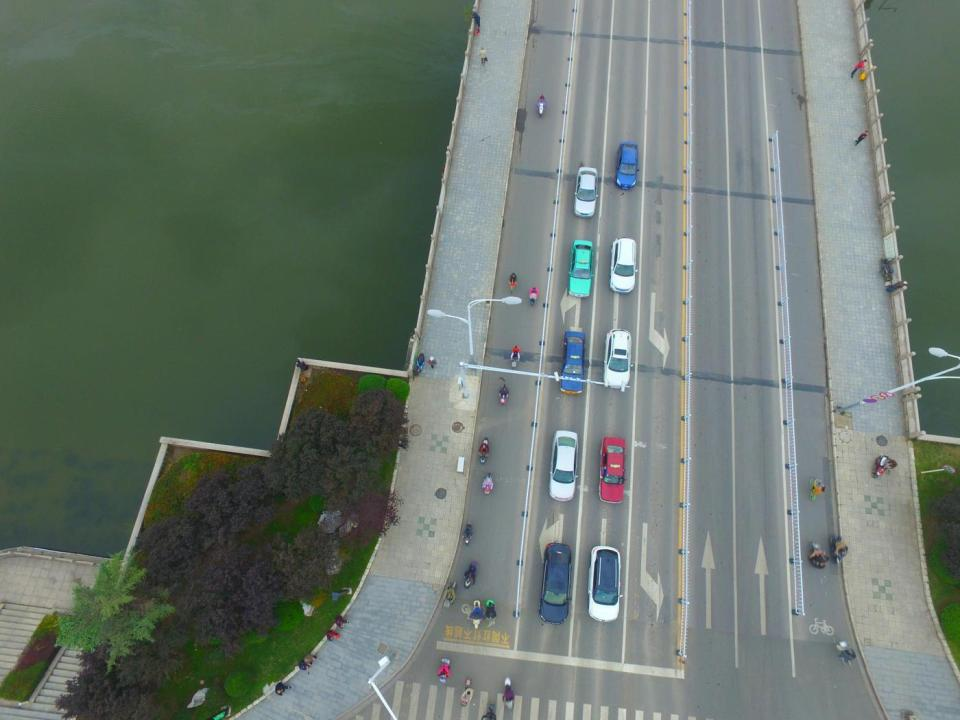car: (537, 541, 577, 625), (586, 543, 624, 622), (548, 428, 580, 501), (597, 434, 626, 504), (601, 327, 633, 390), (609, 234, 640, 295), (557, 331, 585, 395), (566, 237, 595, 298), (613, 135, 643, 191), (572, 166, 602, 219)
